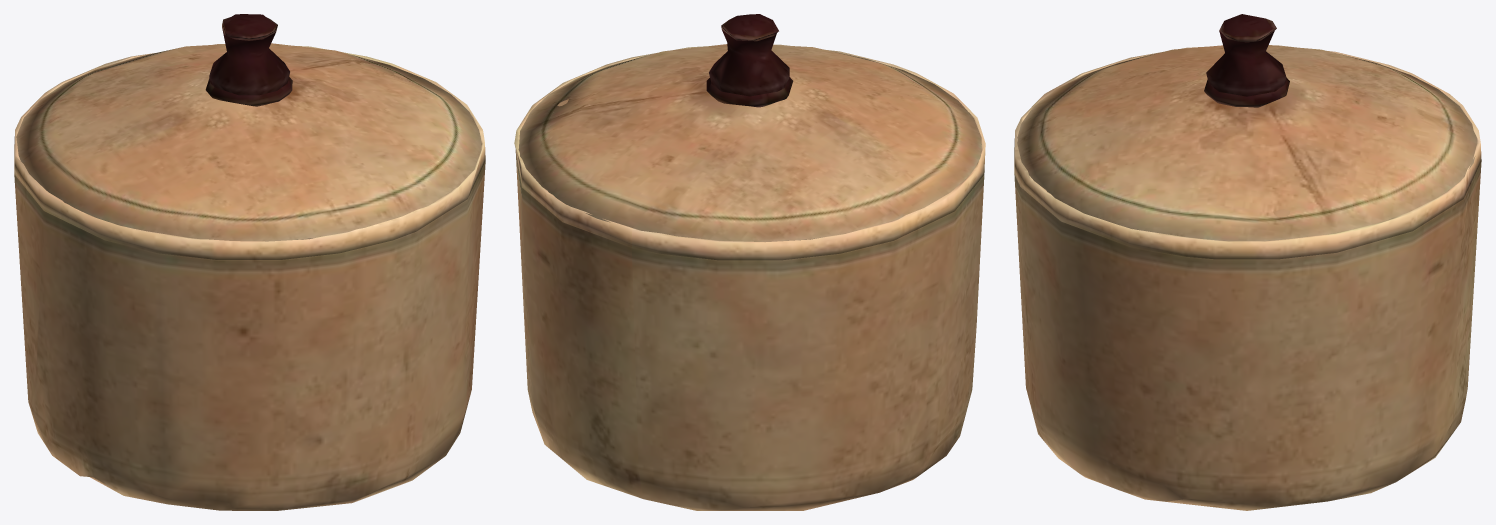
Rendered from brass-pot.glb.
3 renders of one model, left to right at view 1: azimuth 30°, elevation 25°; view 2: azimuth 150°, elevation 25°; view 3: azimuth 270°, elevation 25°, orthographic.
Visible parts, largest first — view 1: brass_pot_01; view 2: brass_pot_01; view 3: brass_pot_01.
Boxes of the visible parts, left/top/right/bottom form: brass_pot_01: left=14, top=14, right=485, bottom=510; brass_pot_01: left=514, top=14, right=985, bottom=510; brass_pot_01: left=1014, top=14, right=1481, bottom=510.
Bounding box in the file's own units: 0.298 × 0.2894 × 0.298.
Materials: 1 (1 with a texture image).
